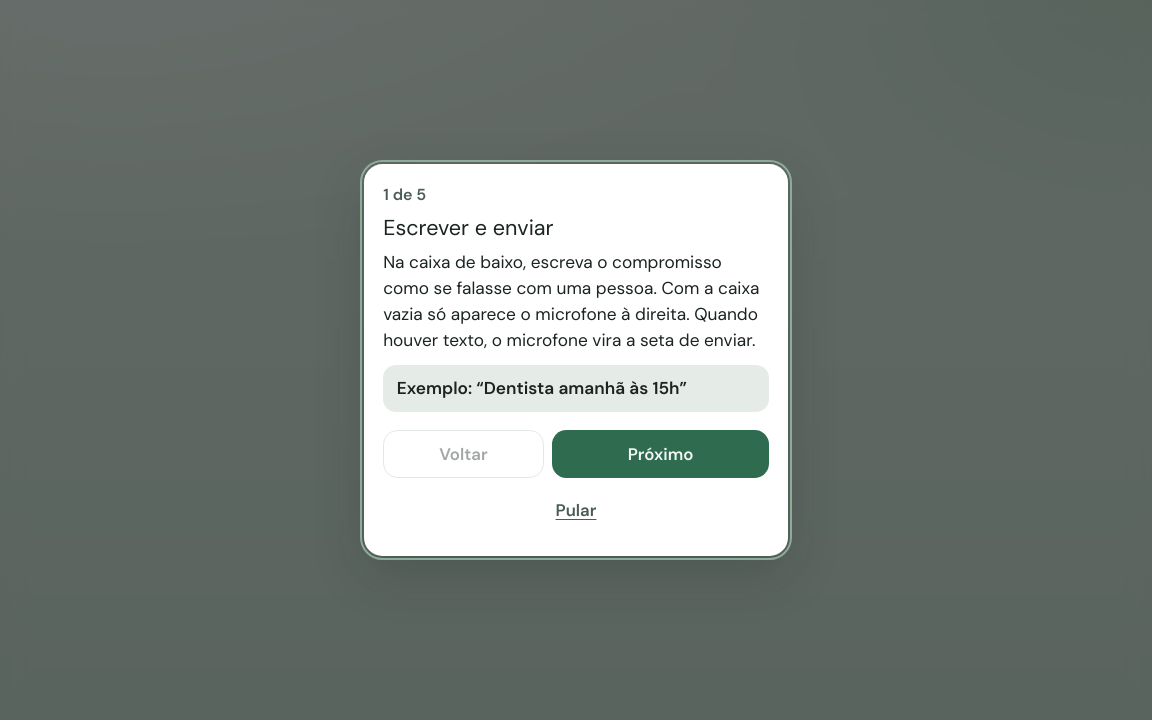
tutorial na tela › mostra o primeiro passo e navega com Próximo e Voltar
Expected: the dialog is shown, [364, 164, 788, 556]
Expected: the dialog shows "Escrever e enviar", [383, 214, 554, 242]
Click the button "Próximo": (661, 454) [552, 430, 769, 478]
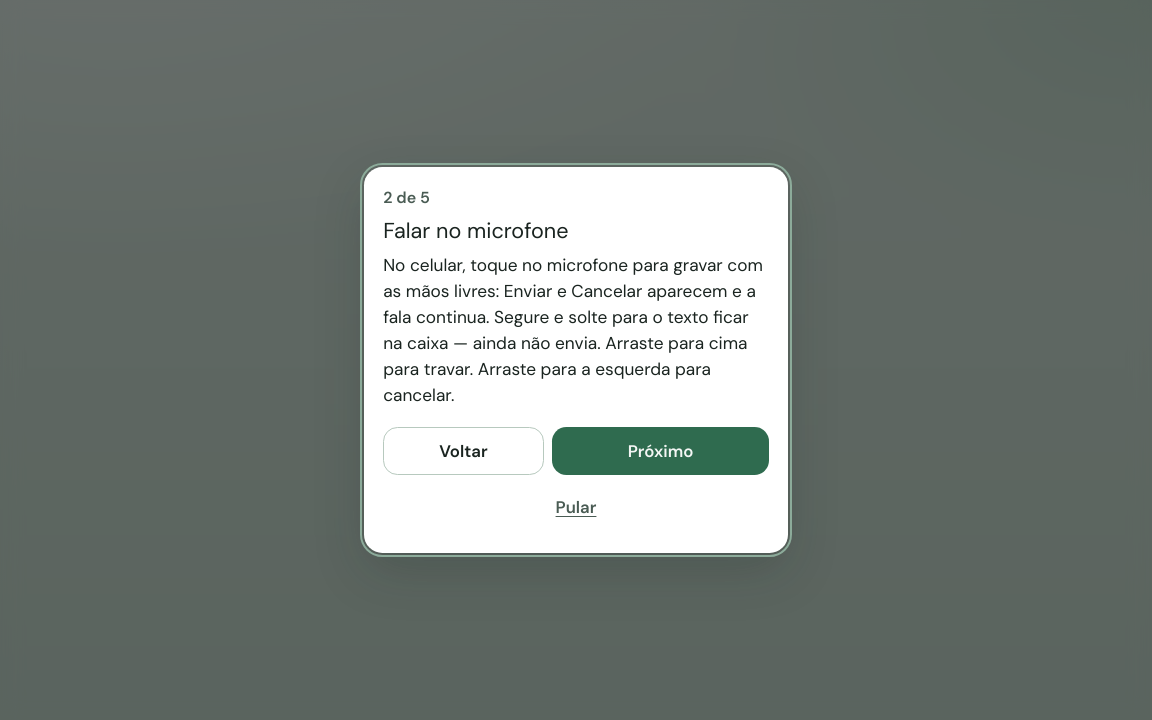
Result: the dialog shows "Falar no microfone" at [383, 216, 568, 244]
Result: the dialog shows "2 de 5" at [383, 187, 430, 208]
Result: the dialog shows "No celular" at [383, 254, 763, 406]
Click the button "Próximo": (661, 451) [552, 427, 769, 475]
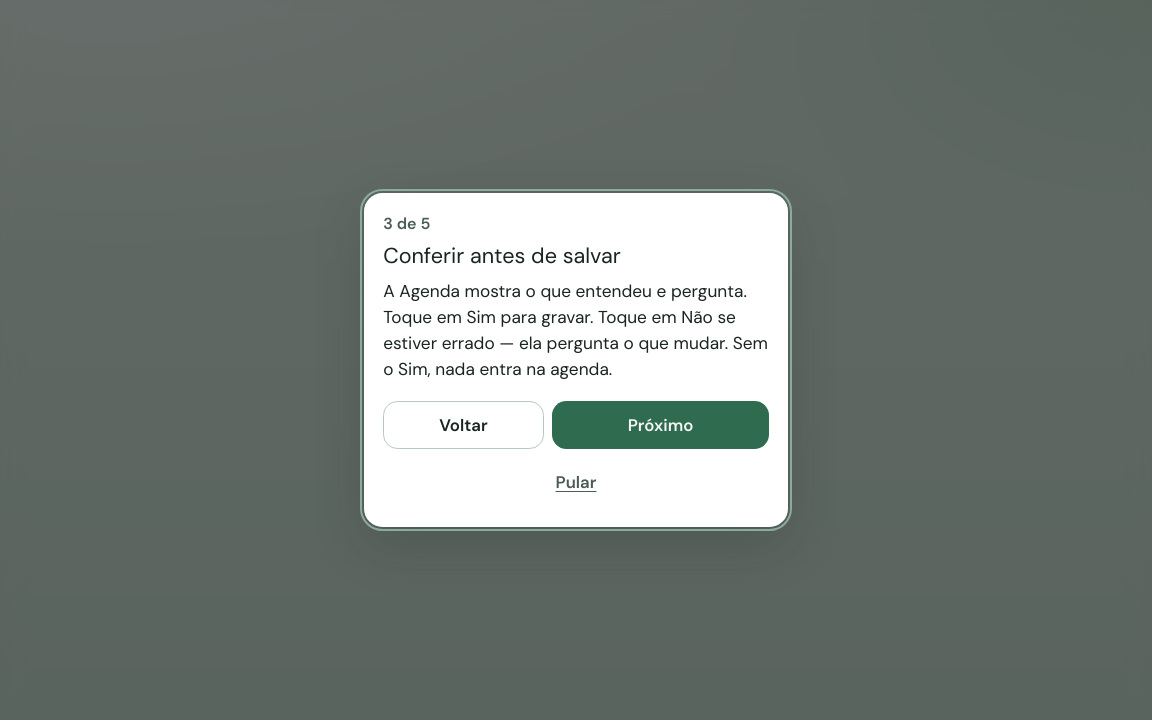
Result: the dialog shows "Conferir antes de salvar" at [383, 242, 621, 270]
Result: the dialog shows "3 de 5" at [383, 213, 430, 234]
Click the button "Voltar": (463, 425) [383, 401, 544, 449]
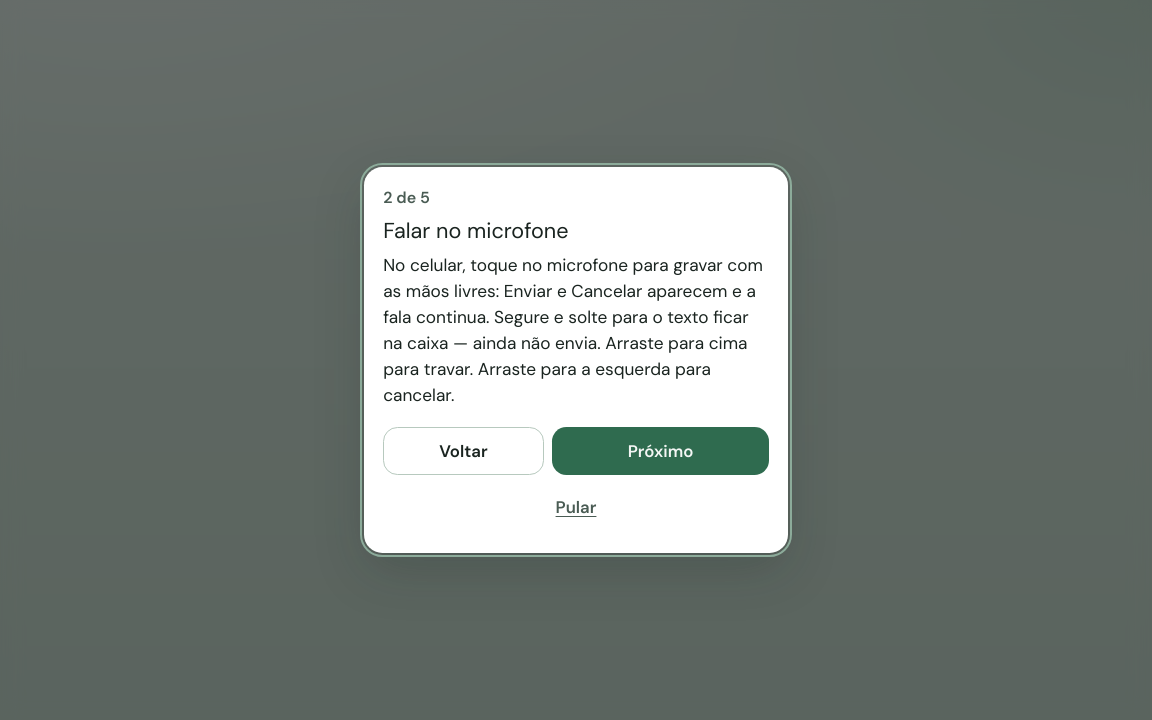
Click the button "Voltar": (463, 451) [383, 427, 544, 475]
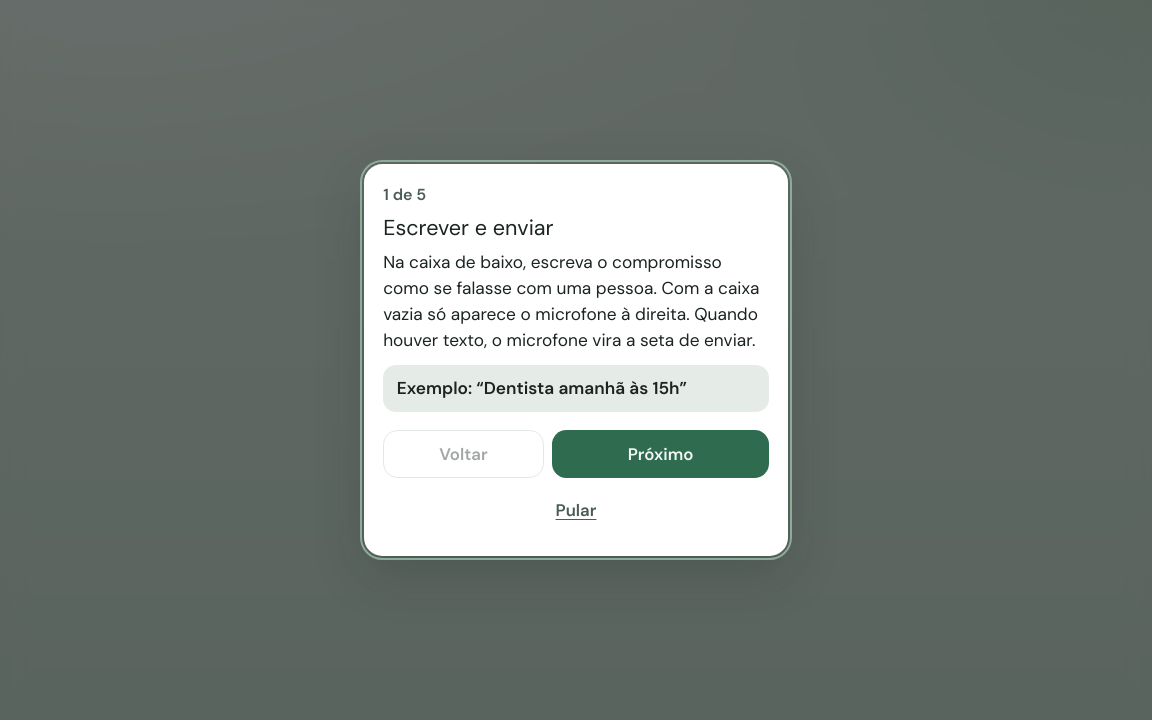
Result: the dialog shows "Escrever e enviar" at [383, 214, 554, 242]
Result: the dialog shows "1 de 5" at [383, 184, 426, 205]
